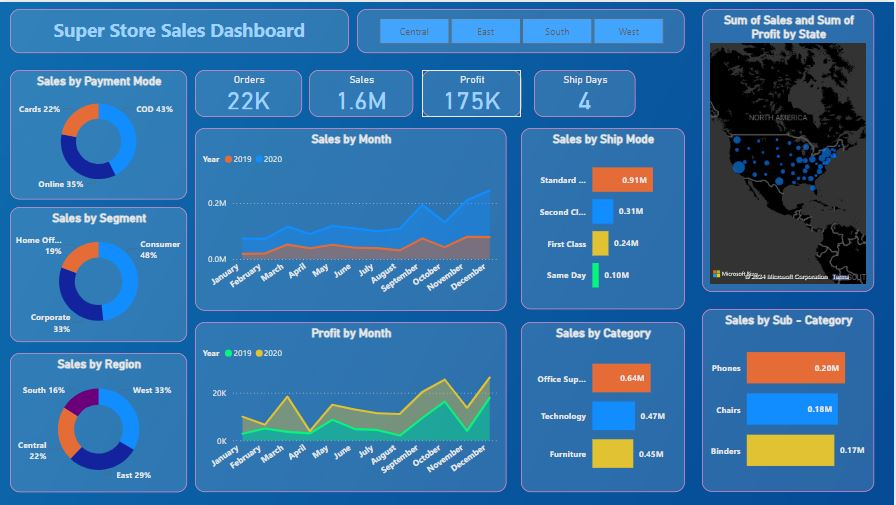

The dashboard page shown, as its layout file describes it:
{"tool":"powerbi","page":{"name":"Page 1","canvas":[1280,720],"ordinal":0},"visuals":[{"type":"clusteredBarChart","title":"Sales by Category","fields":{"Category":["SuperStore_Sales_Dataset.Category"],"Y":["Sum(SuperStore_Sales_Dataset.Sales)"]},"box":[747.8,457.3,233.5,243.2],"z":0},{"type":"clusteredBarChart","title":"Sales by Sub - Category","fields":{"Category":["SuperStore_Sales_Dataset.Sub-Category"],"Y":["Sum(SuperStore_Sales_Dataset.Sales)"]},"box":[1006.3,439.2,246,261.3],"z":1000},{"type":"clusteredBarChart","title":"Sales by Ship Mode","fields":{"Category":["SuperStore_Sales_Dataset.Ship Mode"],"Y":["Sum(SuperStore_Sales_Dataset.Sales)"]},"box":[747.8,180.7,233.5,258.5],"z":2000},{"type":"stackedAreaChart","title":"Sales by Month","fields":{"Y":["Sum(SuperStore_Sales_Dataset.Sales)"],"Category":["SuperStore_Sales_Dataset.Order Date.Variation.Date Hierarchy.Month","SuperStore_Sales_Dataset.Order Date.Variation.Date Hierarchy.Day"],"Series":["SuperStore_Sales_Dataset.Order Date.Variation.Date Hierarchy.Year"]},"box":[280.8,180.7,444.8,261.3],"z":3000},{"type":"stackedAreaChart","title":"Profit by Month","fields":{"Category":["SuperStore_Sales_Dataset.Order Date.Variation.Date Hierarchy.Month","SuperStore_Sales_Dataset.Order Date.Variation.Date Hierarchy.Day"],"Series":["SuperStore_Sales_Dataset.Order Date.Variation.Date Hierarchy.Year"],"Y":["Sum(SuperStore_Sales_Dataset.Profit)"]},"box":[280.8,457.3,444.8,243.2],"z":4000},{"type":"map","fields":{"Category":["SuperStore_Sales_Dataset.State"],"Size":["Sum(SuperStore_Sales_Dataset.Sales)"]},"box":[1006.3,9.7,246,404.5],"z":5000},{"type":"donutChart","title":"Sales by Segment","fields":{"Category":["SuperStore_Sales_Dataset.Segment"],"Y":["Sum(SuperStore_Sales_Dataset.Sales)"]},"box":[16.7,293.3,253,193.2],"z":6000},{"type":"donutChart","title":"Sales by Payment Mode","fields":{"Category":["SuperStore_Sales_Dataset.Payment Mode"],"Y":["Sum(SuperStore_Sales_Dataset.Sales)"]},"box":[16.7,97.3,253,184.9],"z":7000},{"type":"slicer","fields":{"Values":["SuperStore_Sales_Dataset.Region"]},"box":[512.9,9.7,468.4,62.5],"z":8000},{"type":"textbox","box":[16.7,9.7,483.7,62.5],"z":9000},{"type":"donutChart","title":"Sales by Region","fields":{"Category":["SuperStore_Sales_Dataset.Region"],"Y":["Sum(SuperStore_Sales_Dataset.Sales)"]},"box":[16.7,501.8,253,198.8],"z":10000},{"type":"card","title":"Sales","fields":{"Values":["Sum(SuperStore_Sales_Dataset.Sales)"]},"box":[444.8,97.3,148.7,66.7],"z":11000},{"type":"card","title":"Profit","fields":{"Values":["Sum(SuperStore_Sales_Dataset.Profit)"]},"box":[606,97.3,141.8,66.7],"z":12000},{"type":"card","title":"Orders","fields":{"Values":["Sum(SuperStore_Sales_Dataset.Quantity)"]},"box":[280.8,97.3,152.9,66.7],"z":13000},{"type":"card","title":"Ship Days","fields":{"Values":["Avg(SuperStore_Sales_Dataset.AvgDelivery)"]},"box":[765.9,97.3,144.6,66.7],"z":14000}]}

Visuals, with their boxes in screenshot pixels (x1, y1, x2, y2), scaled from the page's 1280x720 canvas onto the 896x505 screenshot:
"Sales by Category" clusteredBarChart: pyautogui.locateOnScreen(523, 321, 687, 491)
"Sales by Sub - Category" clusteredBarChart: pyautogui.locateOnScreen(704, 308, 877, 491)
"Sales by Ship Mode" clusteredBarChart: pyautogui.locateOnScreen(523, 127, 687, 308)
"Sales by Month" stackedAreaChart: pyautogui.locateOnScreen(197, 127, 508, 310)
"Profit by Month" stackedAreaChart: pyautogui.locateOnScreen(197, 321, 508, 491)
map - SuperStore_Sales_Dataset.State x Sum(SuperStore_Sales_Dataset.Sales): pyautogui.locateOnScreen(704, 7, 877, 291)
"Sales by Segment" donutChart: pyautogui.locateOnScreen(12, 206, 189, 341)
"Sales by Payment Mode" donutChart: pyautogui.locateOnScreen(12, 68, 189, 198)
slicer - SuperStore_Sales_Dataset.Region: pyautogui.locateOnScreen(359, 7, 687, 51)
textbox: pyautogui.locateOnScreen(12, 7, 350, 51)
"Sales by Region" donutChart: pyautogui.locateOnScreen(12, 352, 189, 491)
"Sales" card: pyautogui.locateOnScreen(311, 68, 415, 115)
"Profit" card: pyautogui.locateOnScreen(424, 68, 523, 115)
"Orders" card: pyautogui.locateOnScreen(197, 68, 304, 115)
"Ship Days" card: pyautogui.locateOnScreen(536, 68, 637, 115)
